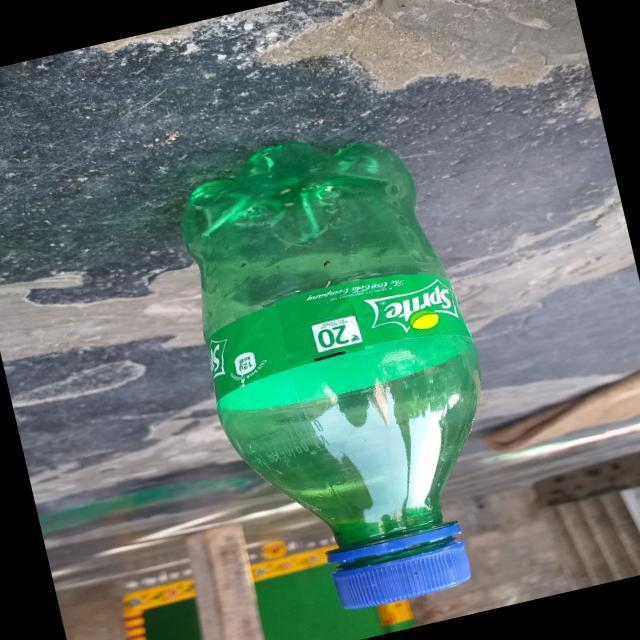good: (158, 100, 532, 636)
